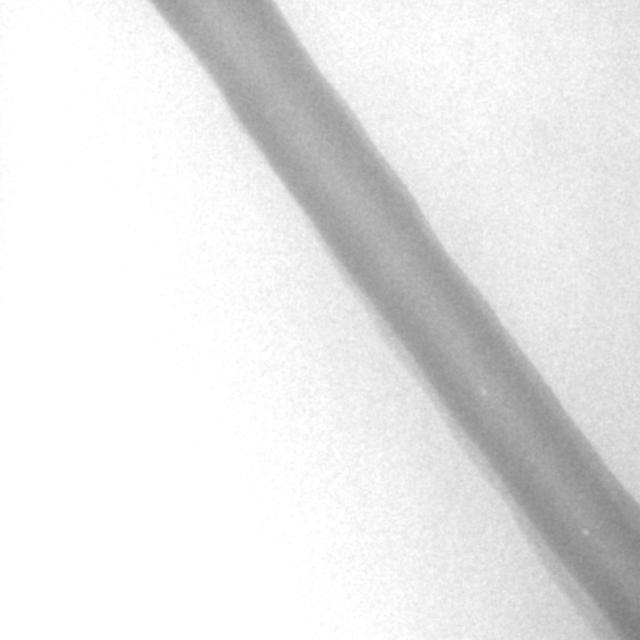air-hole: (480, 386, 488, 399), (582, 524, 590, 536)
